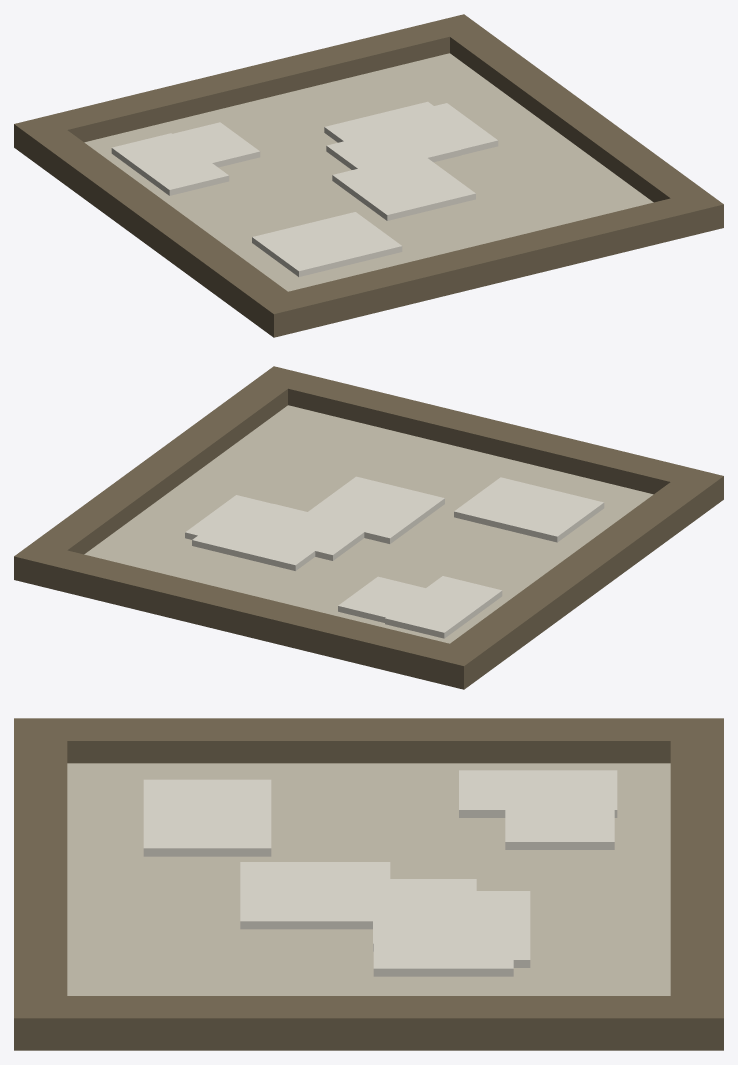
Rendered from salt_pan.glb.
3 views of the same model, one above another, from view 1: azimuth 30°, elevation 25°; view 2: azimuth 150°, elevation 25°; view 3: azimuth 270°, elevation 25° (orthographic). The views are drawn at different scales.
Parts seen in each view (by area): view 1: salt_pan; view 2: salt_pan; view 3: salt_pan.
Boxes of the visible parts, bbox=[...] form: salt_pan: bbox=[14, 14, 723, 337]; salt_pan: bbox=[14, 366, 723, 689]; salt_pan: bbox=[14, 718, 723, 1050].
Size of the model in its own units: 4 by 0.2 by 4.
